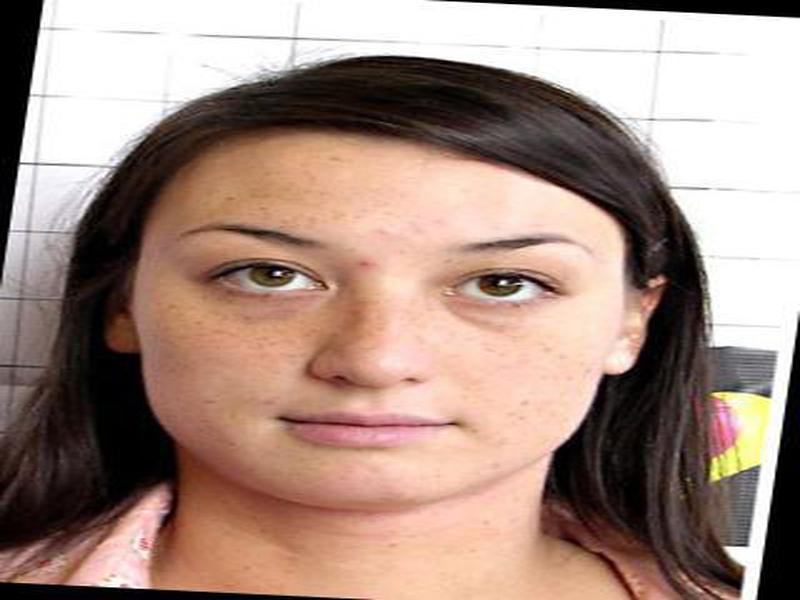without_mask: (148, 153, 604, 514)
